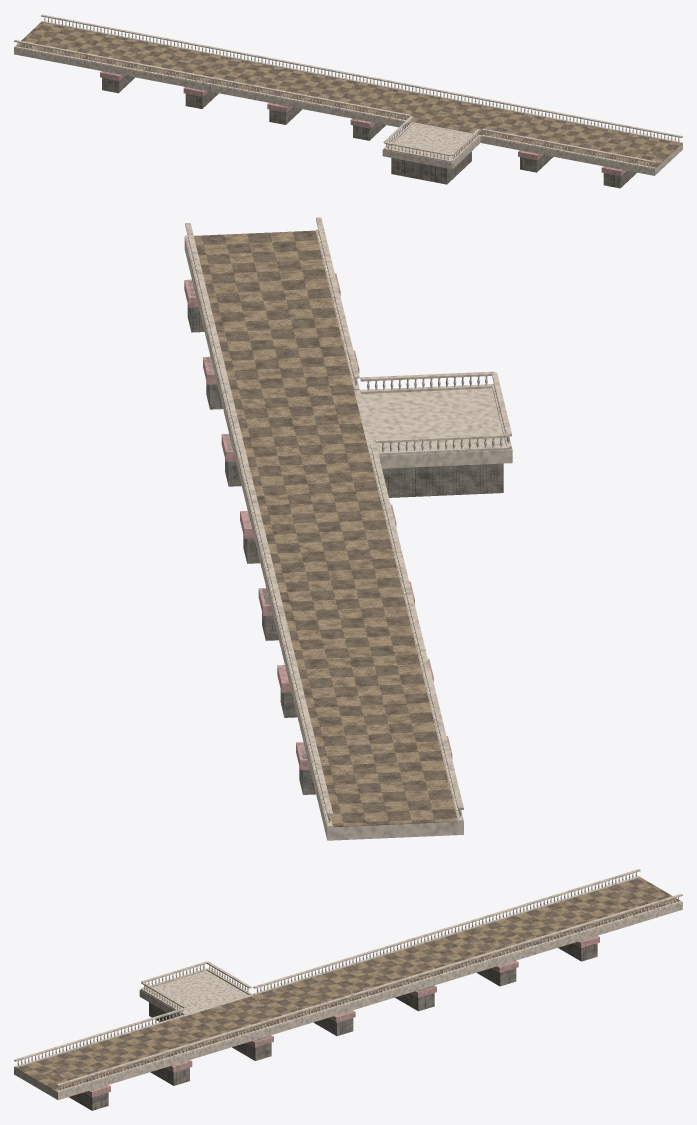
Rendered from Bridge_Main.fbx.
3 views of the same model, one above another, from view 1: azimuth 30°, elevation 25°; view 2: azimuth 150°, elevation 25°; view 3: azimuth 270°, elevation 25° (orthographic). The views are drawn at different scales.
Parts seen in each view (by area): view 1: Deck, Balustrade_East, Platform_Kiosk41, Balustrade_West, Pier_01, Pier_06, Pier_04, Pier_02, Pier_05, Pier_07; view 2: Deck, Platform_Kiosk41, Balustrade_East, Balustrade_West; view 3: Deck, Balustrade_East, Balustrade_West, Platform_Kiosk41, Pier_04, Pier_06, Pier_01, Pier_03, Pier_05, Pier_02, Pier_07.
Part boxes in pixels (x1,y1,x2,y2): Deck: (14,22,682,175); Balustrade_East: (41,14,682,143); Platform_Kiosk41: (382,116,480,184); Balustrade_West: (14,40,655,168); Pier_01: (601,166,636,188); Pier_06: (183,87,218,108); Pier_04: (350,118,385,140); Pier_02: (518,150,553,172); Pier_05: (267,103,302,124); Pier_07: (100,71,134,93); Deck: (184,230,463,840); Platform_Kiosk41: (360,371,512,497); Balustrade_East: (185,223,332,827); Balustrade_West: (316,217,463,821); Deck: (14,877,682,1100); Balustrade_East: (56,894,682,1092); Balustrade_West: (14,869,640,1067); Platform_Kiosk41: (139,961,251,1021); Pier_04: (313,1010,355,1035); Pier_06: (477,960,518,986); Pier_01: (69,1085,110,1110); Pier_03: (232,1035,273,1060); Pier_05: (395,985,436,1011); Pier_02: (150,1060,192,1085); Pier_07: (558,935,599,961).
Size of the model in its own units: 61.12 by 4.59 by 79.83.
